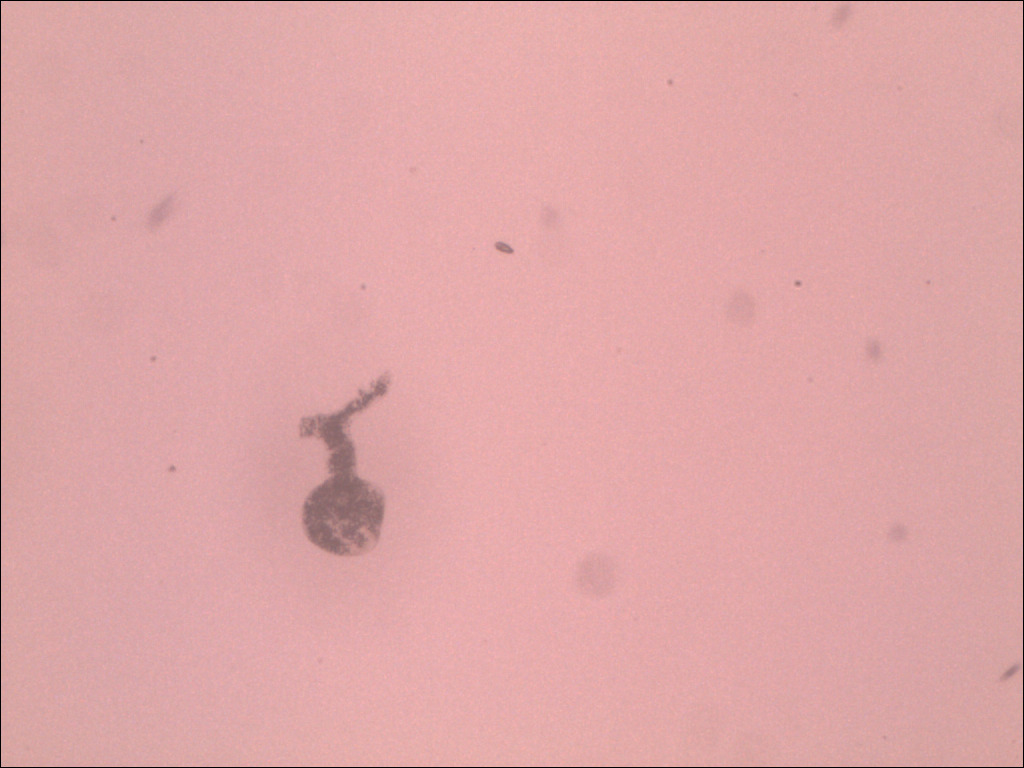amoeba: (287, 362, 417, 562)
